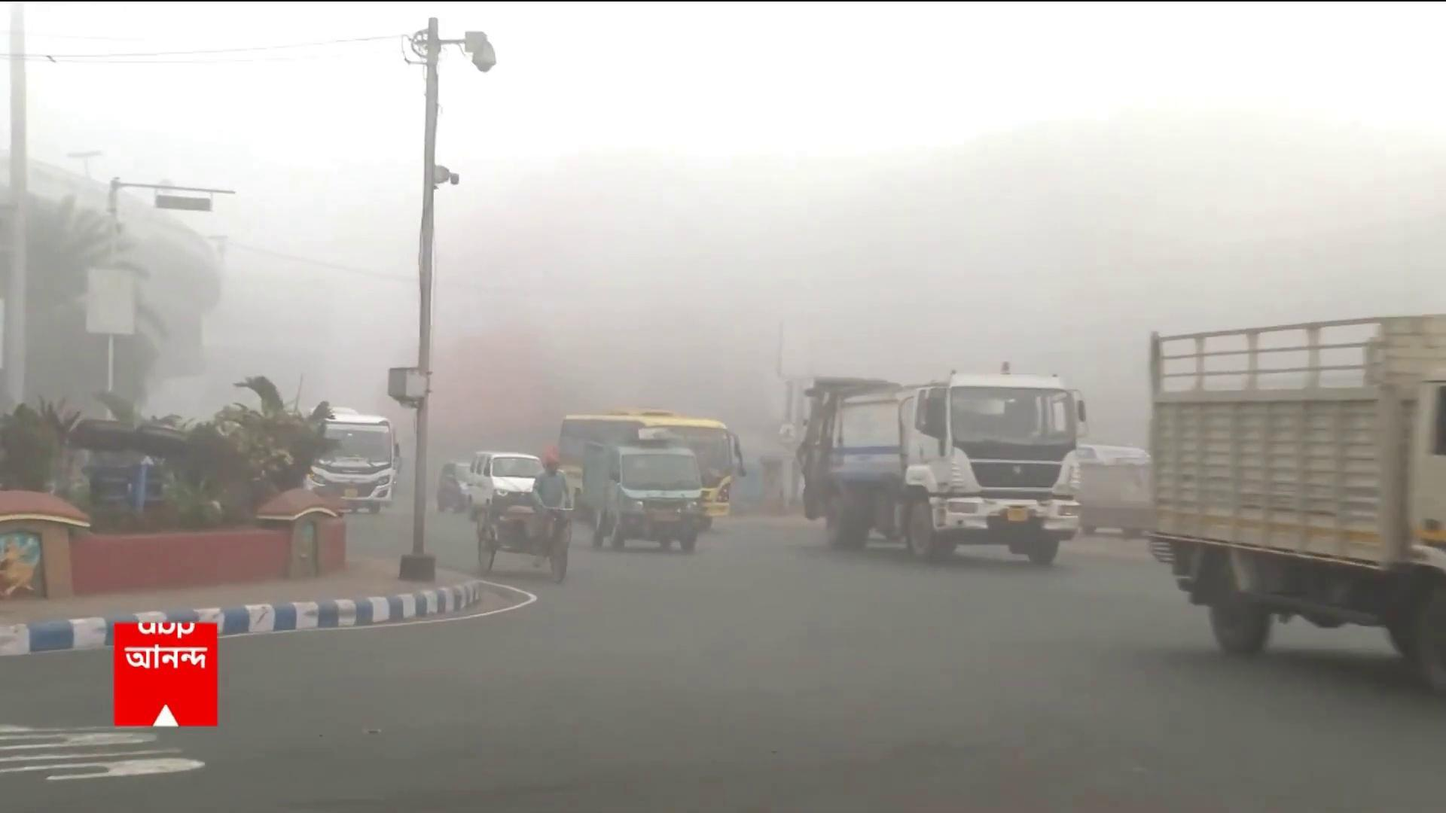Truck: (1141, 318, 1441, 654), (789, 363, 1088, 575), (580, 430, 706, 556)
